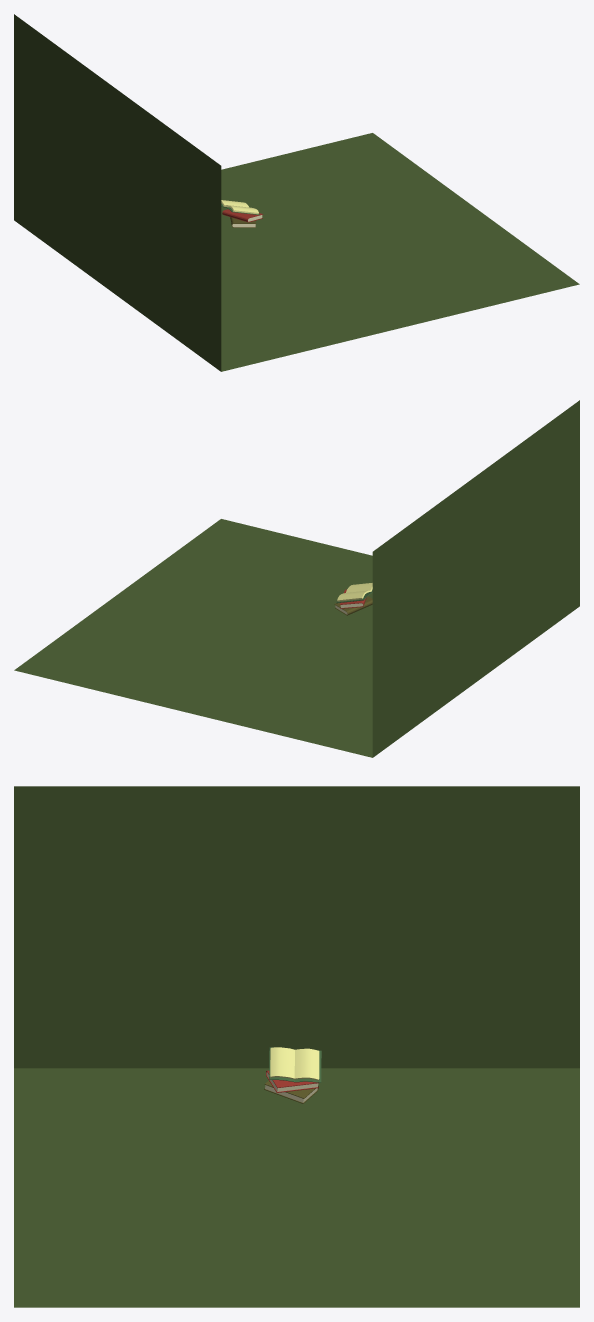
File: materi.glb
3 views of the same model, one above another, from view 1: azimuth 30°, elevation 25°; view 2: azimuth 150°, elevation 25°; view 3: azimuth 270°, elevation 25° (orthographic). The views are drawn at different scales.
Visible parts, largest first — view 1: bg, object; view 2: bg, object; view 3: bg, object.
Boxes of the visible parts, x1=… form: bg: x1=14, y1=14, x2=579, y2=371; object: x1=221, y1=200, x2=263, y2=227; bg: x1=14, y1=400, x2=579, y2=757; object: x1=334, y1=583, x2=372, y2=615; bg: x1=14, y1=786, x2=579, y2=1307; object: x1=264, y1=1047, x2=321, y2=1103.
Bounding box in the file's own units: 8 × 4.39 × 8.
